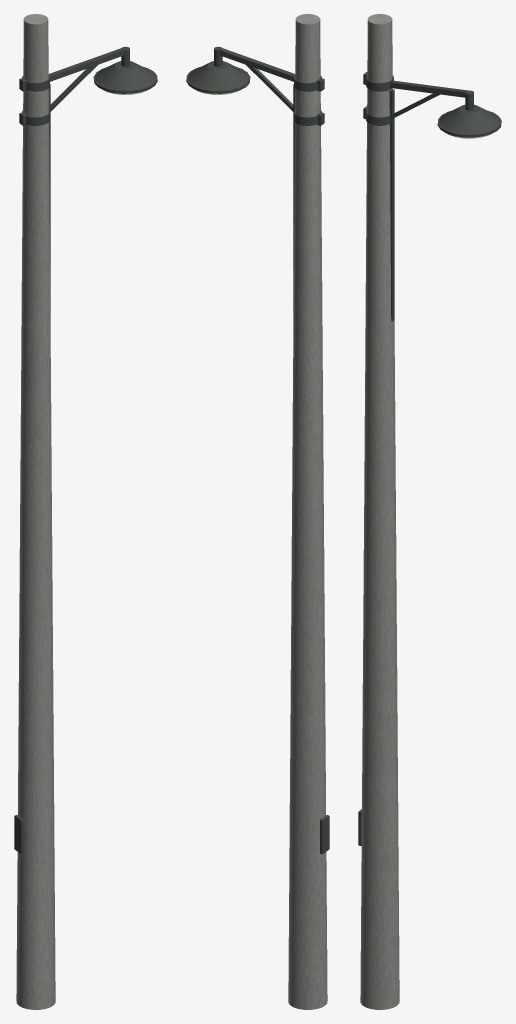
Rendered from street-lamp.glb.
The picture shows the model from 3 angles, left to right: view 1: azimuth 30°, elevation 25°; view 2: azimuth 150°, elevation 25°; view 3: azimuth 330°, elevation 25°; orthographic projection.
Parts seen in each view (by area): view 1: lamp_Lamp concrete, lamp_Bench dark iron.004; view 2: lamp_Lamp concrete, lamp_Bench dark iron.004; view 3: lamp_Lamp concrete, lamp_Bench dark iron.004.
Boxes of the visible parts, x1,y1,x2,y2 form: lamp_Lamp concrete: (16,14,55,1009); lamp_Bench dark iron.004: (14,46,157,854); lamp_Lamp concrete: (288,14,327,1009); lamp_Bench dark iron.004: (186,46,329,854); lamp_Lamp concrete: (360,14,399,1009); lamp_Bench dark iron.004: (358,72,501,845).
Size of the model in its own units: 0.954 by 6.6 by 0.39.
3 materials, 1 textured.
